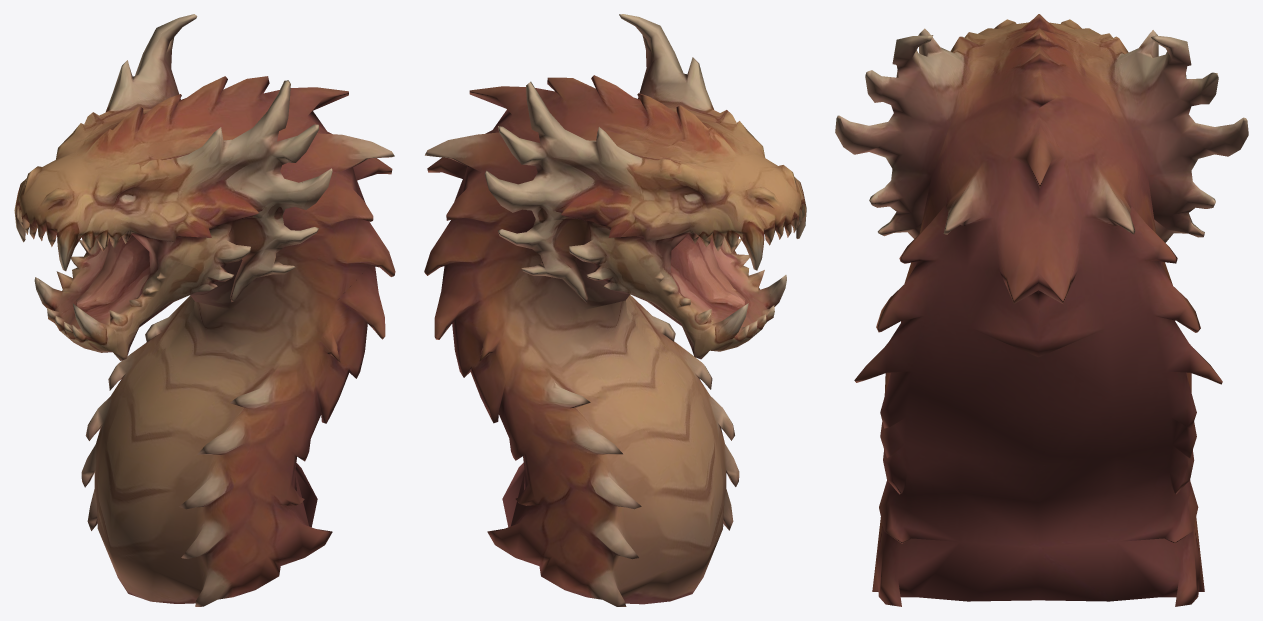
The model's file is serpent.glb.
The picture shows the model from 3 angles, left to right: view 1: azimuth 30°, elevation 25°; view 2: azimuth 150°, elevation 25°; view 3: azimuth 270°, elevation 25°; orthographic projection. The views are drawn at different scales.
Visible parts, largest first — view 1: serpent; view 2: serpent; view 3: serpent.
Part boxes in pixels (<box>): serpent: <box>14,14,395,606</box>; serpent: <box>424,14,806,606</box>; serpent: <box>835,14,1248,606</box>.
Bounding box in the file's own units: 3.75 × 5.2 × 3.08.
1 material, 1 textured.
